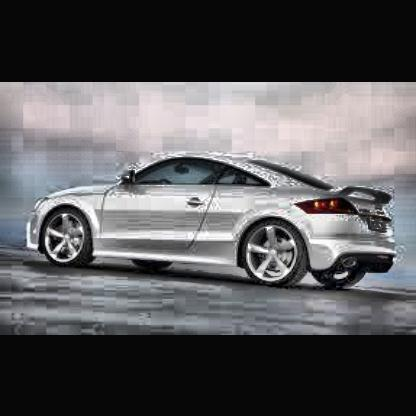Audi TT RS Coupe 2012: (26, 153, 407, 290)
